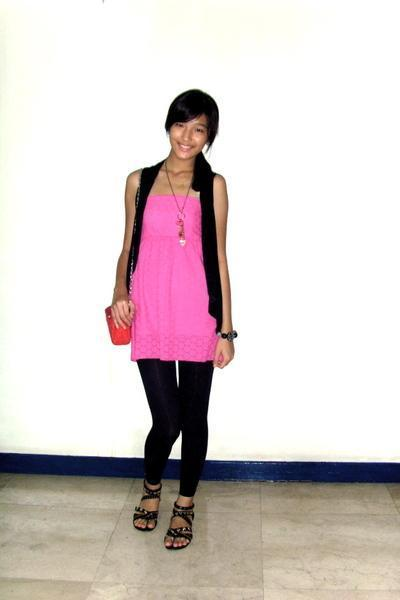bag: (105, 307, 131, 344)
dress: (130, 192, 217, 371)
jacket: (127, 156, 223, 323)
shoe: (133, 492, 193, 539)
